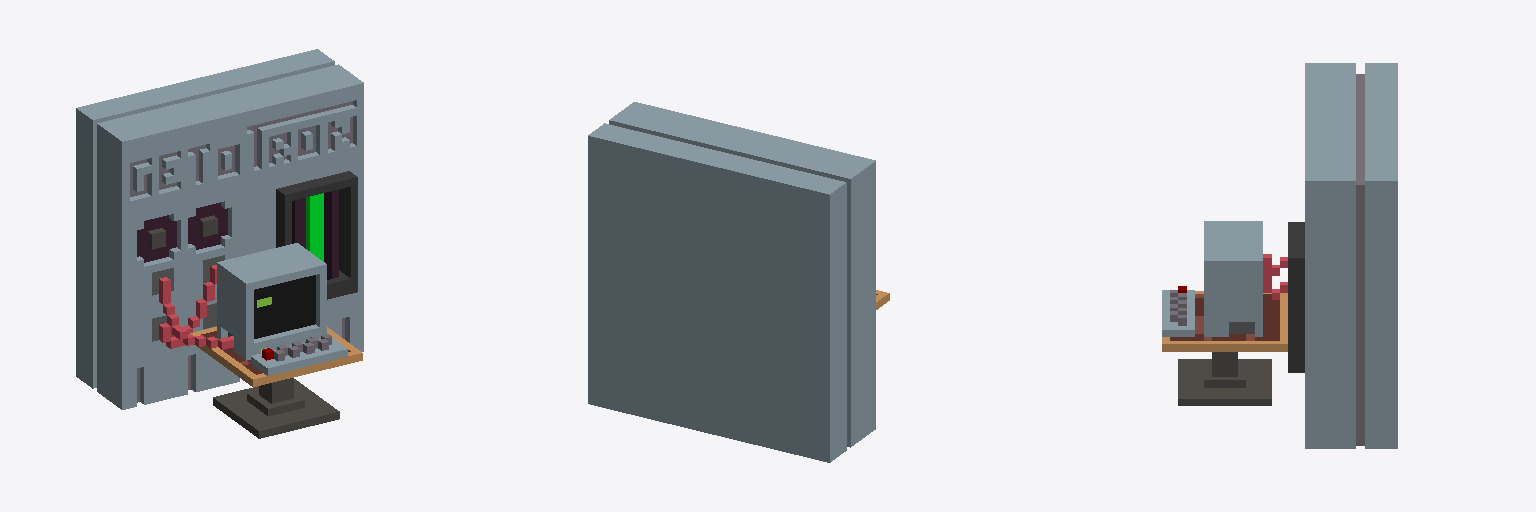
The picture shows the model from 3 angles: view 1: azimuth 30°, elevation 25°; view 2: azimuth 150°, elevation 25°; view 3: azimuth 270°, elevation 25°; orthographic projection.
Size of the model in its own units: 33 by 35 by 28.
Materials: 1 (1 with a texture image).